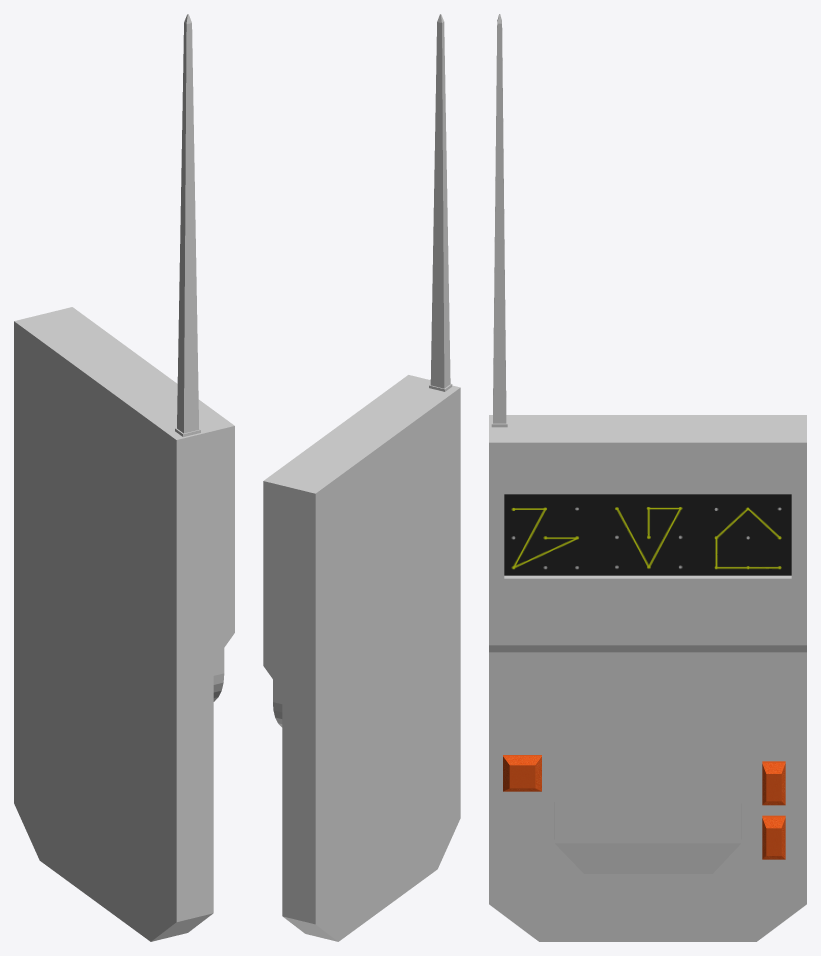
File: radio_for_Puzzle.fbx
The picture shows the model from 3 angles, left to right: view 1: azimuth 30°, elevation 25°; view 2: azimuth 150°, elevation 25°; view 3: azimuth 270°, elevation 25°; orthographic projection. The views are drawn at different scales.
Parts seen in each view (by area): view 1: Radio_Body, Cube; view 2: Radio_Body, Cube; view 3: Radio_Body, image, Cube, Cube.001, Cube.003, Cube.005.
Boxes of the visible parts, bbox=[...] form: Radio_Body: bbox=[14, 307, 234, 941]; Cube: bbox=[175, 14, 200, 436]; Radio_Body: bbox=[263, 375, 460, 941]; Cube: bbox=[429, 14, 452, 391]; Radio_Body: bbox=[489, 415, 806, 941]; image: bbox=[504, 494, 791, 575]; Cube: bbox=[491, 14, 507, 427]; Cube.001: bbox=[503, 755, 541, 791]; Cube.003: bbox=[762, 761, 785, 805]; Cube.005: bbox=[762, 815, 785, 859].
Size of the model in its own units: 220 by 3379 by 1061.
4 materials, 3 textured.
